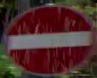No entry: (5, 4, 92, 75)
